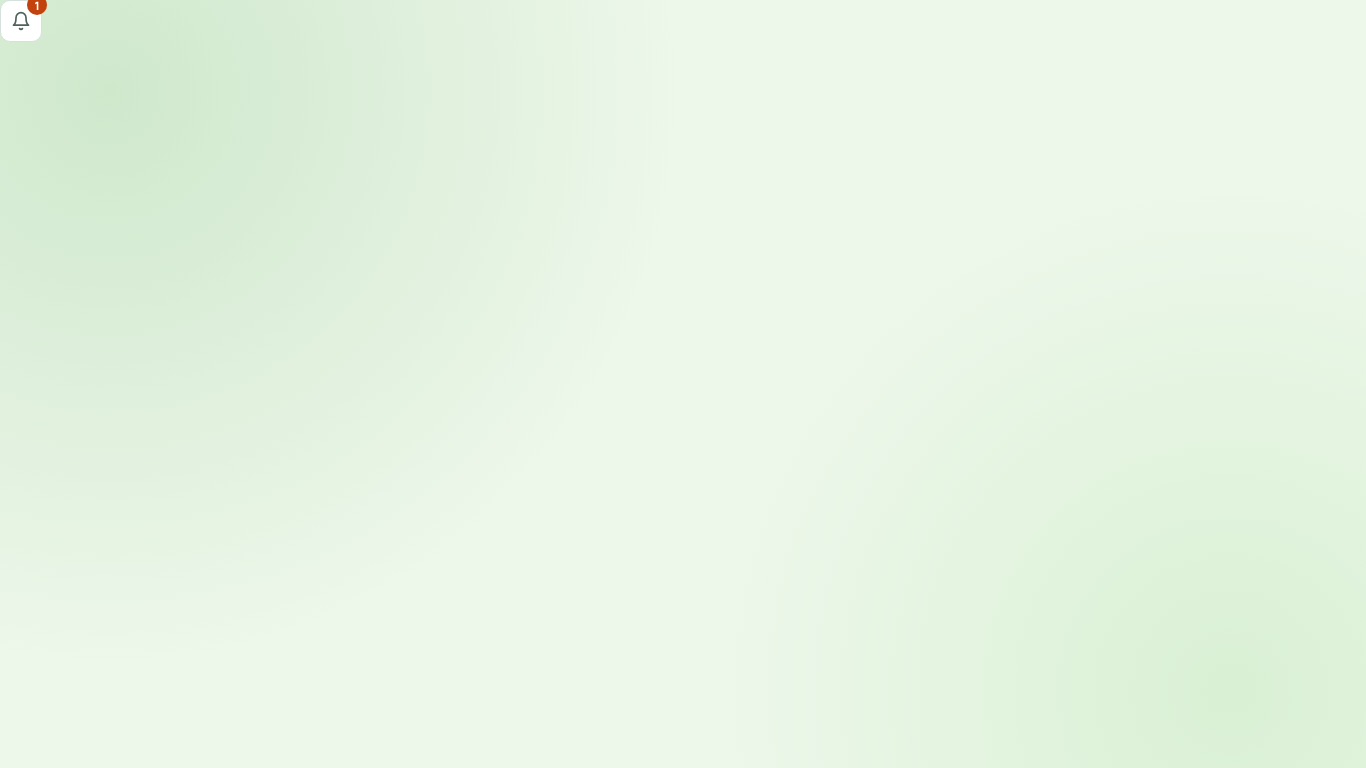
Test case: notification bell › has an accessible name with the unread count and opens a panel
Click the button named "Notifications, 1 unread".
click(21, 21)  # box [0,0,42,42]
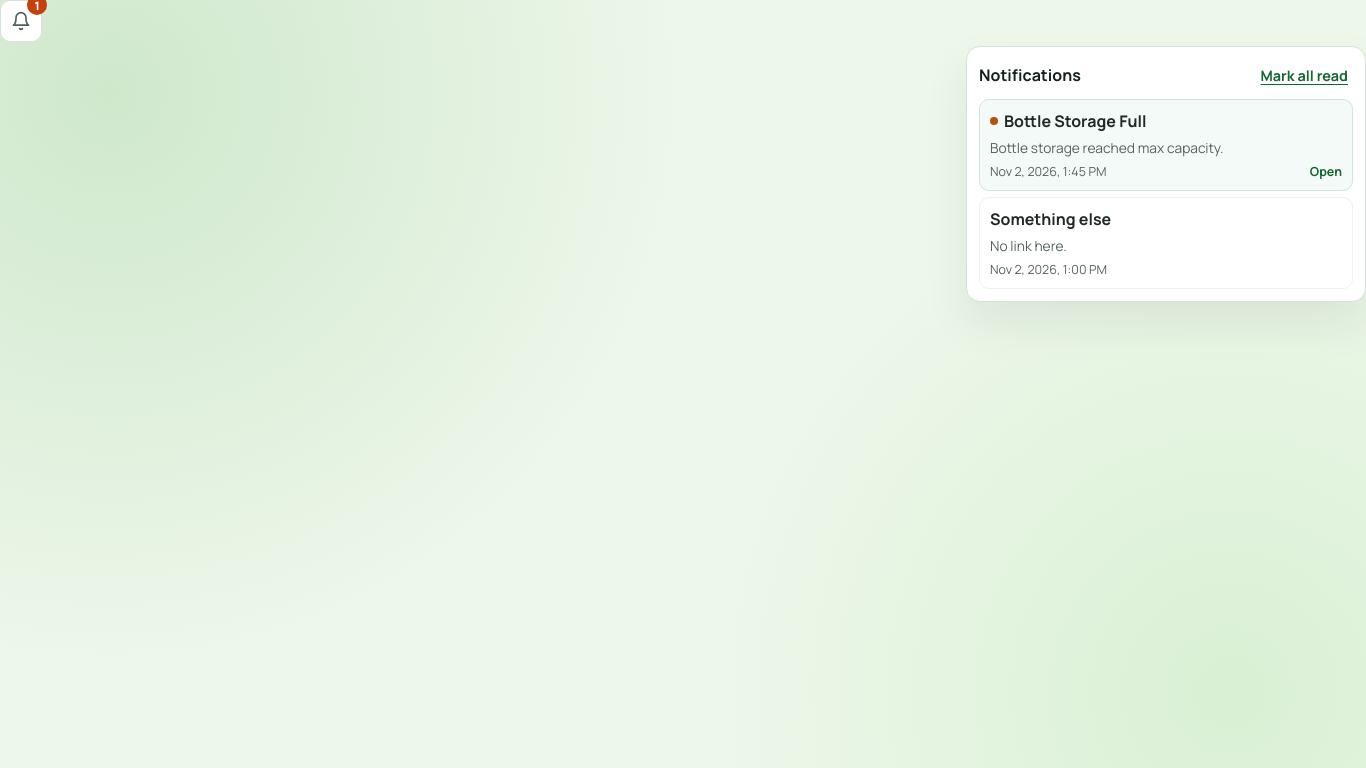
Expected: the dialog "Notifications" is shown, [966,46,1365,302]
